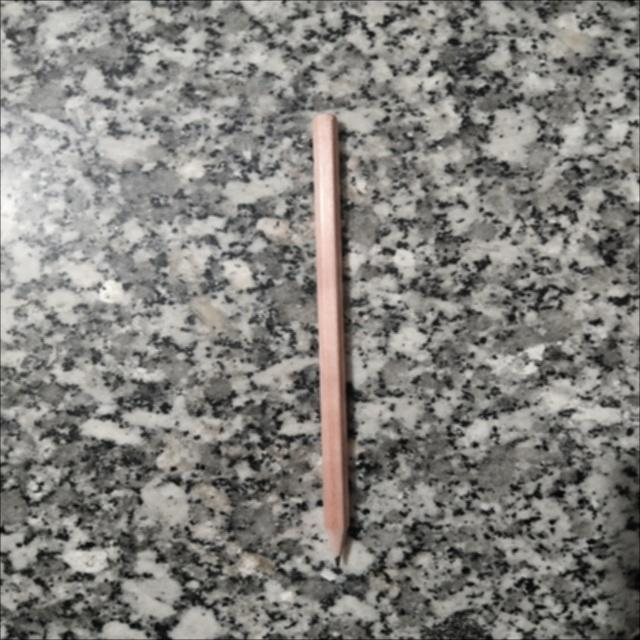pencil: (313, 114, 348, 563)
